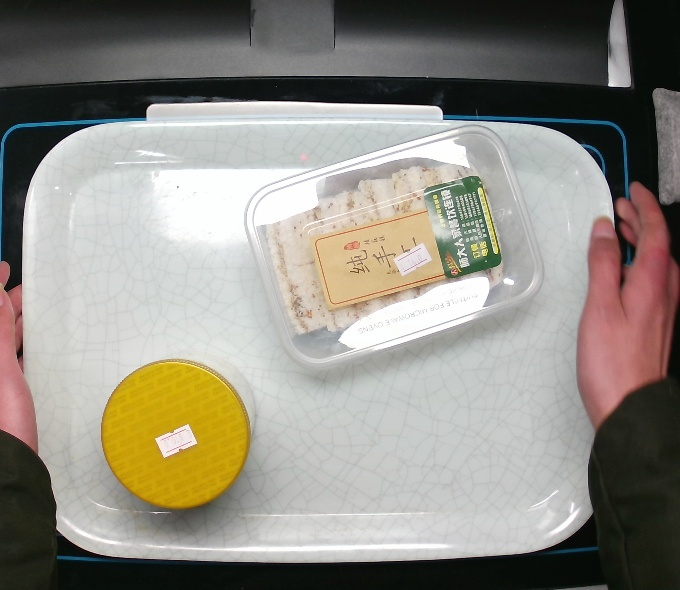wcq-GuiHuaGao: (243, 122, 546, 368)
wcq-MaiYaTang: (96, 348, 259, 511)
